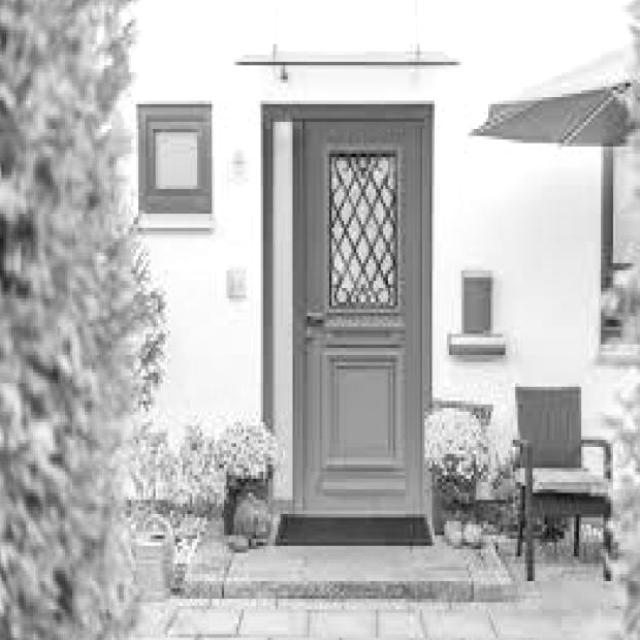door: (289, 108, 430, 518)
